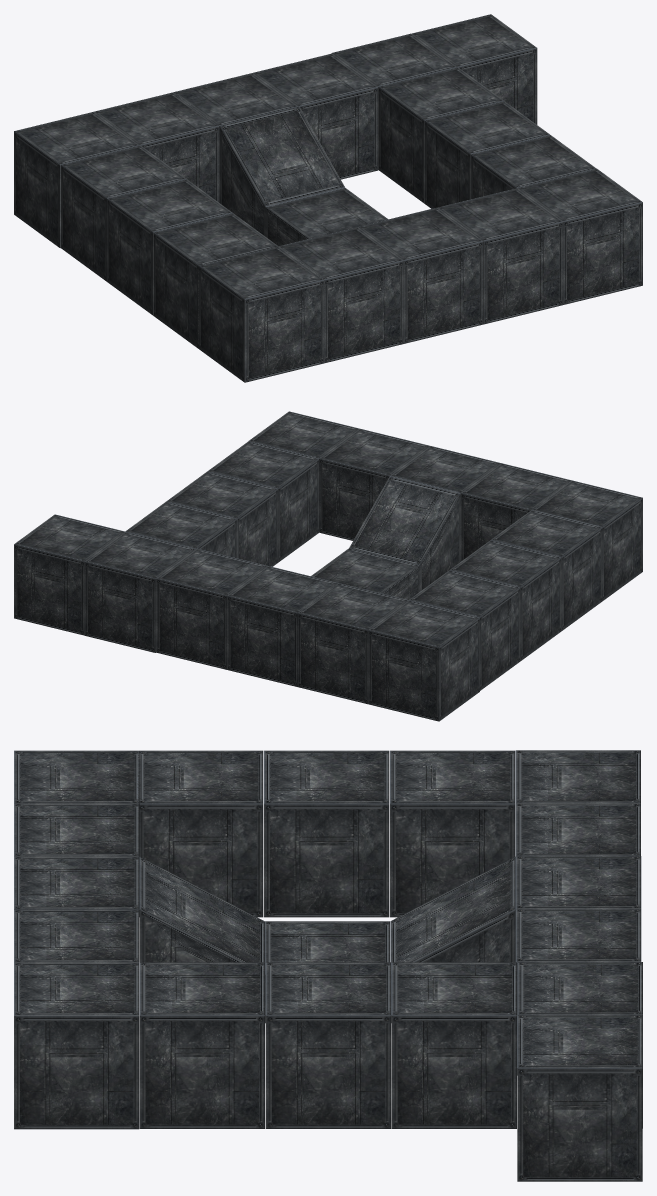
Rendered from bldg_acidplat.gltf.
3 views of the same model, one above another, from view 1: azimuth 30°, elevation 25°; view 2: azimuth 150°, elevation 25°; view 3: azimuth 270°, elevation 25° (orthographic). The views are drawn at different scales.
Visible parts, largest first — view 1: cube18, cube21, cube20, cube22, cube19, cube37, cube26, cube30, cube32, cube23, cube29, cube31 (+7 smaller); view 2: cube23, cube25, cube26, cube24, cube27, cube28, cube35, cube21, cube29, cube34, cube30, cube31 (+7 smaller); view 3: cube33, cube22, cube30, cube24, cube32, cube34, cube31, cube29, cube37, cube35, cube26, cube20 (+8 smaller).
Part boxes in pixels (x1=…): cube18: x1=198, y1=246, x2=324, y2=382; cube21: x1=438, y1=188, x2=563, y2=324; cube20: x1=358, y1=207, x2=483, y2=343; cube22: x1=518, y1=168, x2=642, y2=304; cube19: x1=279, y1=227, x2=403, y2=362; cube37: x1=219, y1=106, x2=345, y2=236; cube26: x1=253, y1=53, x2=378, y2=179; cube30: x1=107, y1=179, x2=232, y2=315; cube32: x1=378, y1=67, x2=503, y2=203; cube23: x1=14, y1=112, x2=139, y2=248; cube29: x1=153, y1=213, x2=277, y2=348; cube31: x1=61, y1=145, x2=186, y2=281; cube23: x1=368, y1=600, x2=479, y2=721; cube25: x1=84, y1=531, x2=195, y2=652; cube26: x1=156, y1=548, x2=267, y2=669; cube24: x1=14, y1=514, x2=124, y2=635; cube27: x1=227, y1=566, x2=338, y2=686; cube28: x1=298, y1=583, x2=408, y2=704; cube35: x1=349, y1=476, x2=460, y2=591; cube21: x1=319, y1=428, x2=430, y2=540; cube29: x1=491, y1=510, x2=602, y2=631; cube34: x1=207, y1=441, x2=319, y2=562; cube30: x1=450, y1=540, x2=561, y2=661; cube31: x1=409, y1=570, x2=520, y2=690; cube33: x1=265, y1=962, x2=391, y2=1128; cube22: x1=14, y1=962, x2=139, y2=1129; cube30: x1=264, y1=750, x2=389, y2=917; cube24: x1=517, y1=1015, x2=642, y2=1181; cube32: x1=391, y1=962, x2=516, y2=1128; cube34: x1=139, y1=962, x2=264, y2=1128; cube31: x1=390, y1=750, x2=515, y2=917; cube29: x1=137, y1=750, x2=263, y2=917; cube37: x1=390, y1=856, x2=515, y2=1022; cube35: x1=139, y1=857, x2=264, y2=962; cube26: x1=515, y1=909, x2=641, y2=1075; cube20: x1=14, y1=856, x2=139, y2=909.
Size of the model in its own units: 47.96 by 8 by 40.12.
Materials: 1 (1 with a texture image).
